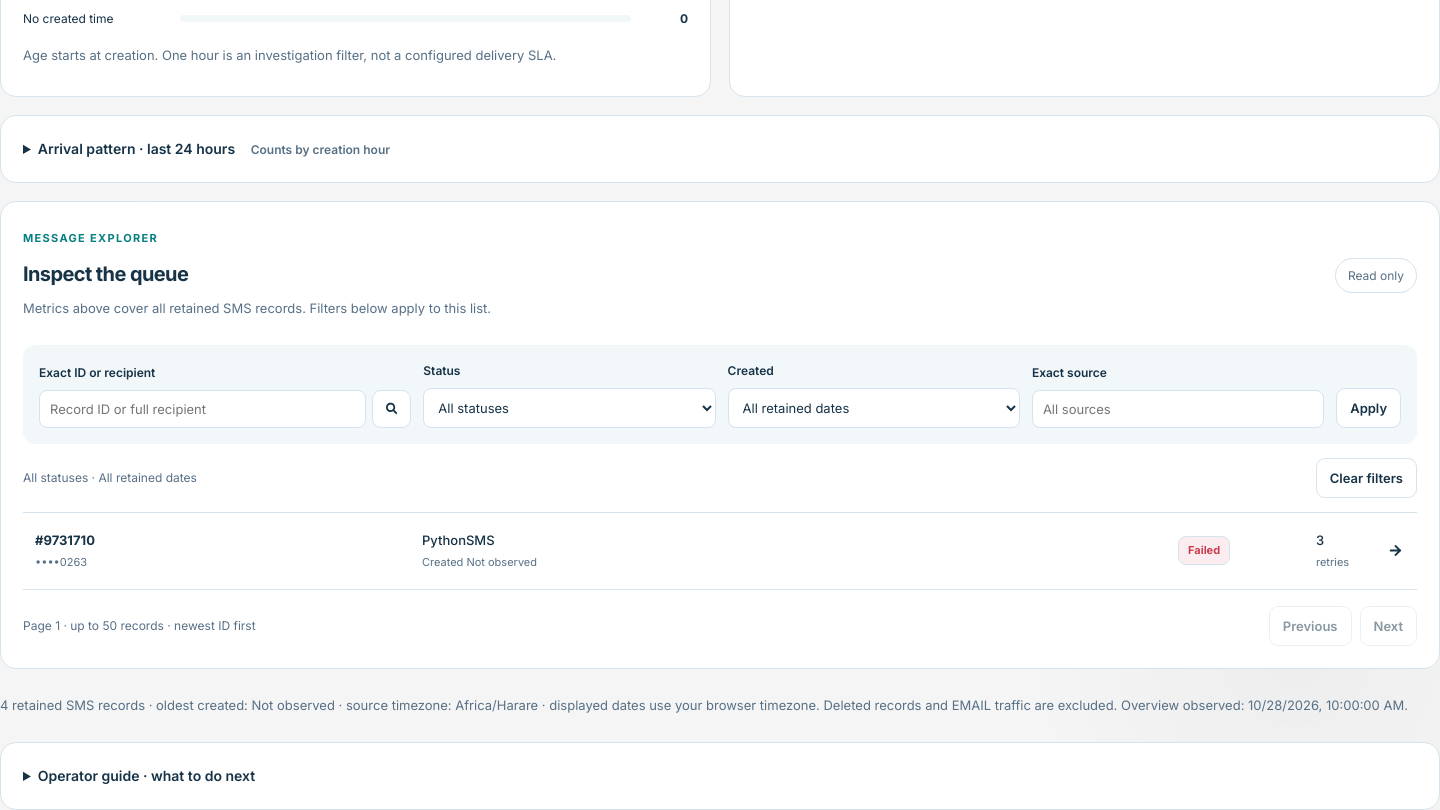
Test: zero retries is real evidence, not missing data
This screenshot has width=1440, height=810.
(page scrolled)
Click the text "#9731710" at (39, 540), box top-left (35, 532), bottom-right (95, 548)
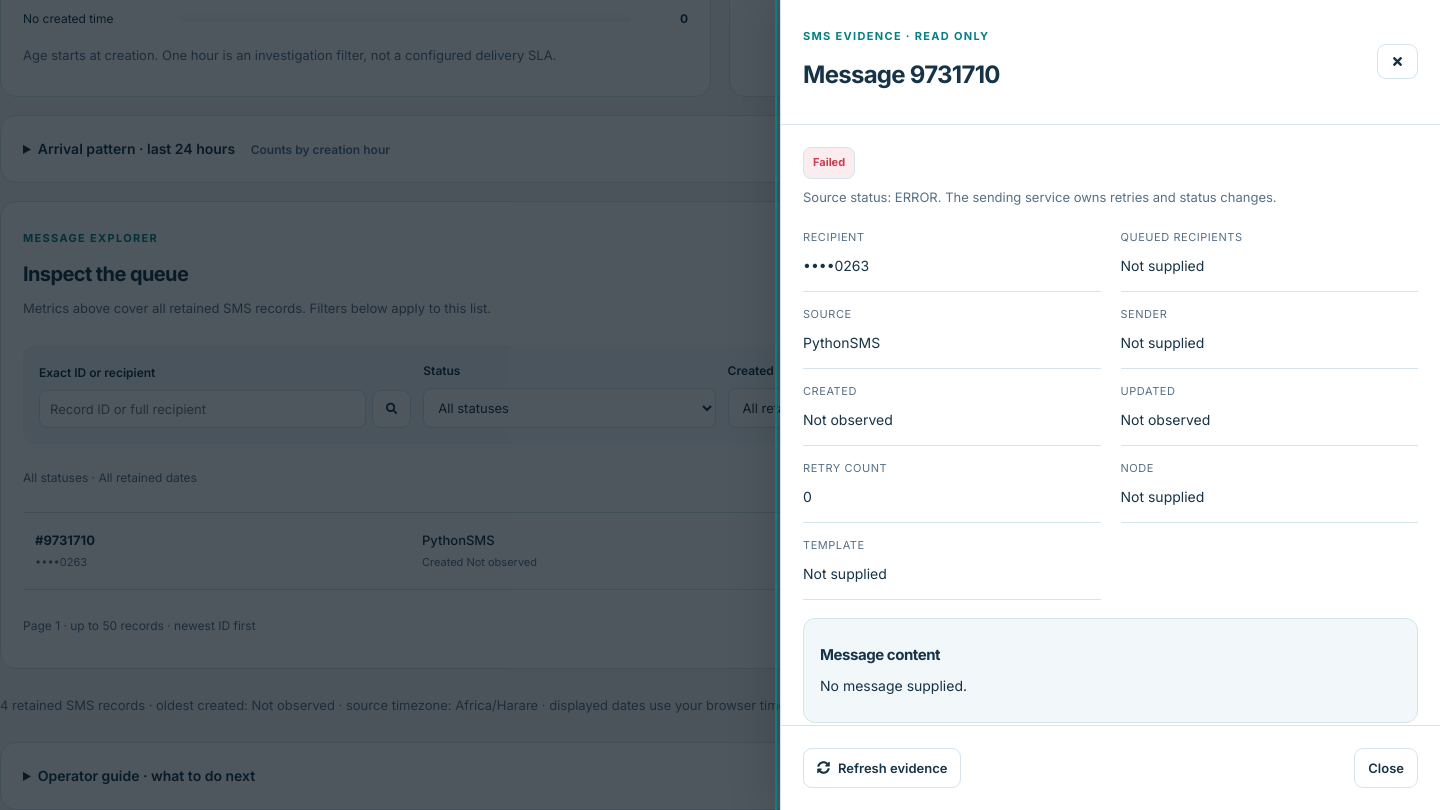
Check: the text "Retry count" is shown, box top-left (803, 461), bottom-right (887, 475)
Check: the text "0" is shown, box top-left (803, 488), bottom-right (812, 505)
